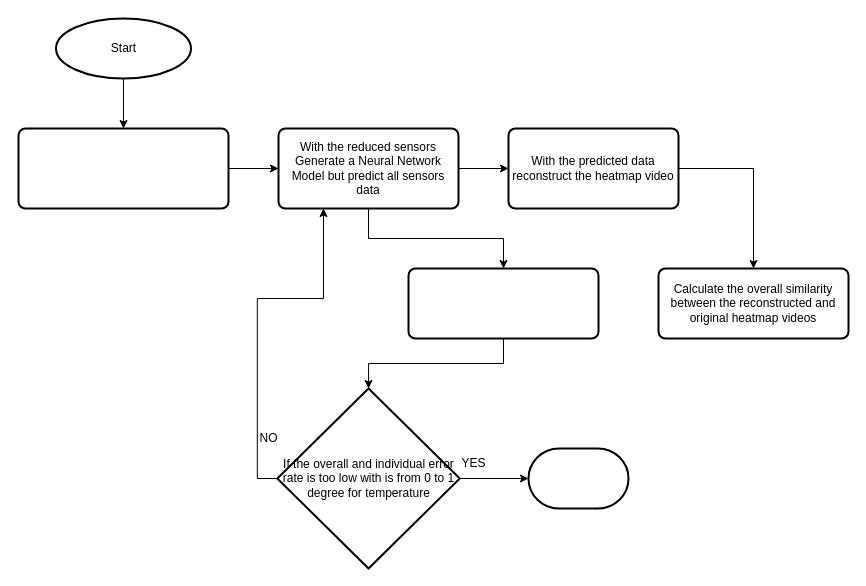
Some shapes in this 866 by 586 pixel diagram are drawn without their labels. Here are the shapes that lost their labels. From the top down, the centre of each, then its label:
At (x=123, y=168): "Read the data from Reduced sensors".
At (x=503, y=303): "Calcuate the error between predicted data and the actual data".
At (x=578, y=478): "End".
